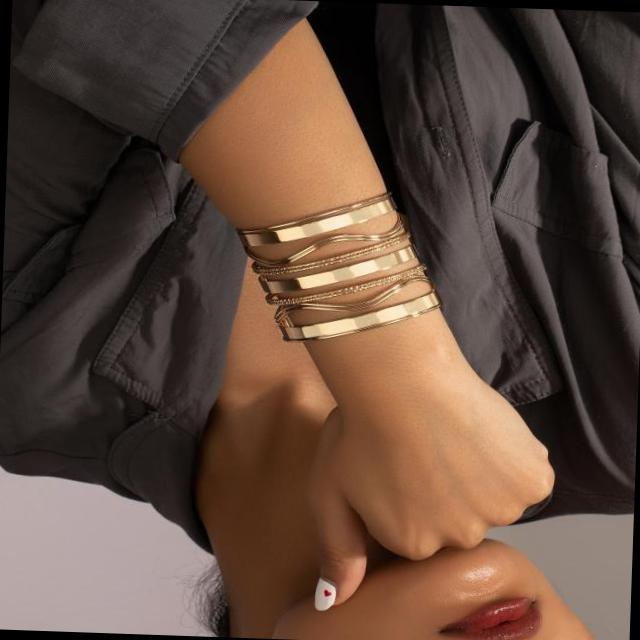Nail: (313, 576, 336, 609)
